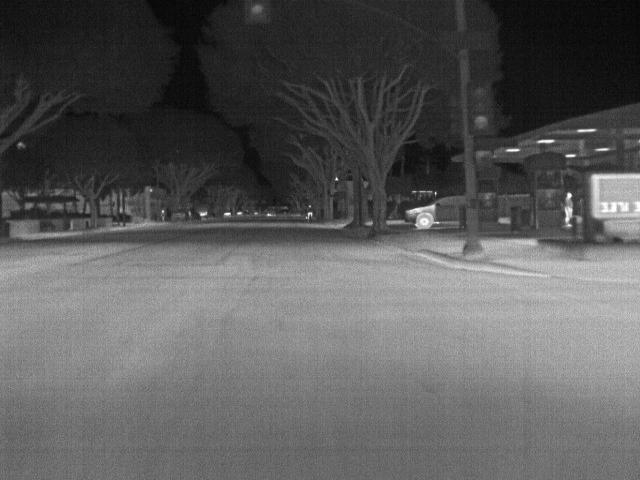car: (403, 194, 458, 229), (188, 208, 205, 222), (173, 208, 189, 222)
person: (563, 188, 573, 230), (304, 202, 314, 218), (159, 209, 167, 222)
